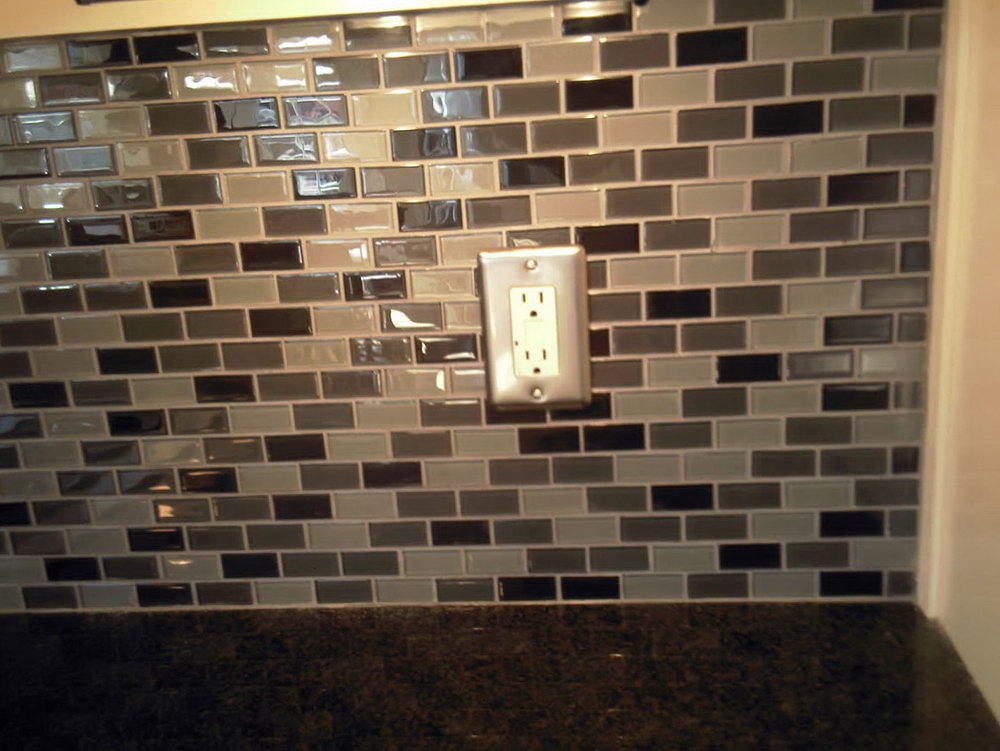outlet: (515, 287, 549, 323), (520, 344, 553, 377)
